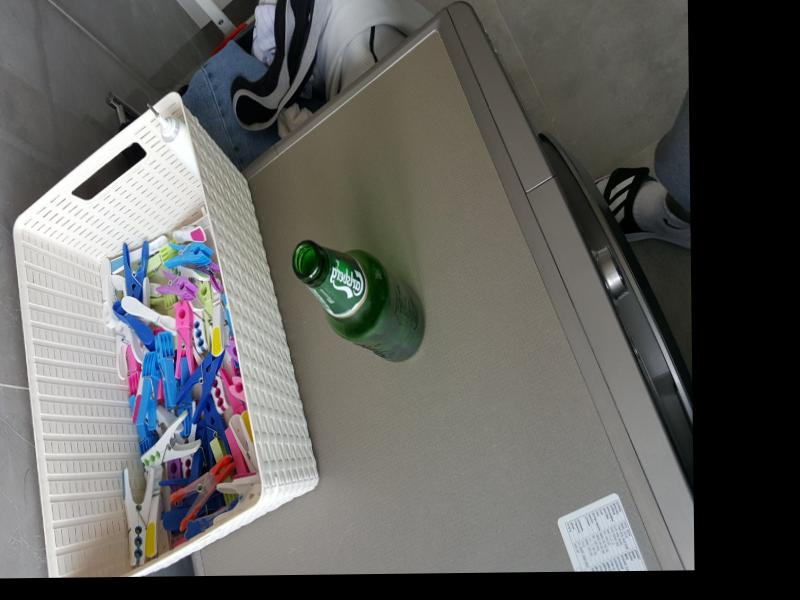Beer: (294, 237, 427, 360)
